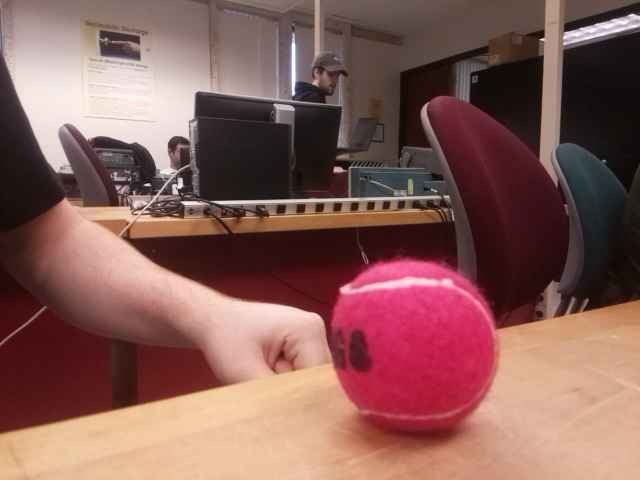red-ball: (327, 256, 501, 440)
